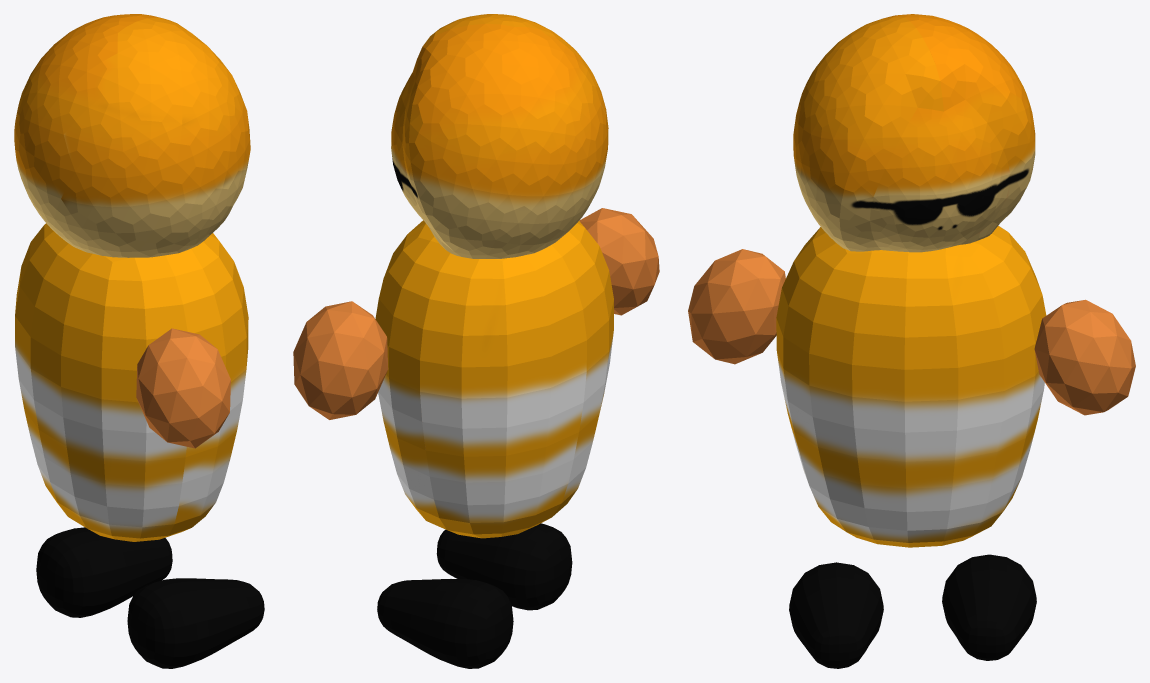
The model's file is MainChar.fbx.
The picture shows the model from 3 angles, left to right: view 1: azimuth 30°, elevation 25°; view 2: azimuth 150°, elevation 25°; view 3: azimuth 270°, elevation 25°; orthographic projection. The views are drawn at different scales.
Visible parts, largest first — view 1: Body, Head, FootR, FootL, HandsR; view 2: Body, Head, FootL, HandsL, FootR, HandsR; view 3: Body, Head, HandsL, HandsR, FootR, FootL.
Boxes of the visible parts, bbox=[...] form: Body: bbox=[15, 223, 248, 541]; Head: bbox=[14, 14, 250, 257]; FootR: bbox=[127, 578, 264, 668]; FootL: bbox=[36, 527, 172, 617]; HandsR: bbox=[136, 328, 230, 448]; Body: bbox=[375, 220, 613, 538]; Head: bbox=[391, 14, 608, 258]; FootL: bbox=[377, 579, 513, 668]; HandsL: bbox=[293, 301, 388, 419]; FootR: bbox=[436, 523, 572, 610]; HandsR: bbox=[579, 208, 659, 315]; Body: bbox=[776, 226, 1046, 547]; Head: bbox=[793, 14, 1035, 252]; HandsL: bbox=[1034, 299, 1135, 415]; HandsR: bbox=[688, 249, 785, 364]; FootR: bbox=[789, 562, 883, 668]; FootL: bbox=[942, 554, 1036, 660].
Bounding box in the file's own units: 64.39 × 180 × 117.
